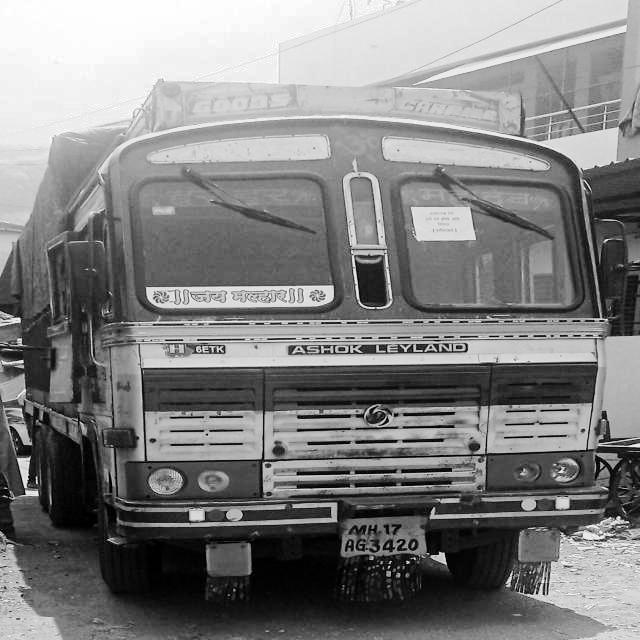HCV: (93, 120, 605, 630)
